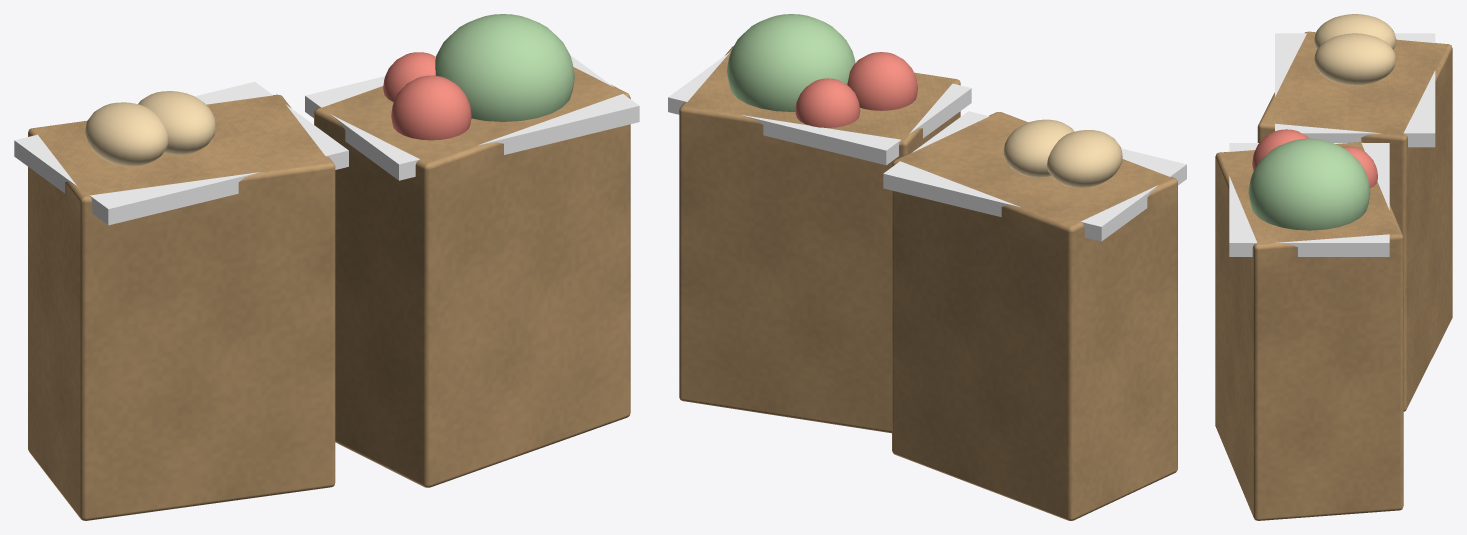
File: escena.casa.bolsas_super.fbx
The picture shows the model from 3 angles, left to right: view 1: azimuth 30°, elevation 25°; view 2: azimuth 150°, elevation 25°; view 3: azimuth 270°, elevation 25°; orthographic projection. The views are drawn at different scales.
Parts seen in each view (by area): view 1: Bolsa.001, Bolsa, Lechuga, Doblez.001, Doblez, Tomate, Marraqueta.001, Marraqueta, Tomate.001; view 2: Bolsa.001, Bolsa, Lechuga, Doblez.001, Doblez, Marraqueta.001, Tomate, Marraqueta, Tomate.001; view 3: Bolsa, Bolsa.001, Lechuga, Doblez, Doblez.001, Marraqueta, Marraqueta.001, Tomate, Tomate.001.
Part boxes in pixels (bbox=[...]): Bolsa.001: bbox=[28, 94, 335, 520]; Bolsa: bbox=[314, 67, 630, 487]; Lechuga: bbox=[435, 14, 574, 121]; Doblez.001: bbox=[14, 81, 348, 225]; Doblez: bbox=[305, 55, 639, 180]; Tomate: bbox=[391, 75, 471, 140]; Marraqueta.001: bbox=[85, 102, 168, 166]; Marraqueta: bbox=[138, 91, 216, 154]; Tomate.001: bbox=[383, 52, 435, 101]; Bolsa.001: bbox=[892, 112, 1177, 520]; Bolsa: bbox=[679, 46, 960, 433]; Lechuga: bbox=[726, 14, 855, 111]; Doblez.001: bbox=[883, 111, 1186, 241]; Doblez: bbox=[668, 51, 971, 165]; Marraqueta.001: bbox=[1047, 130, 1122, 187]; Tomate: bbox=[847, 52, 917, 110]; Marraqueta: bbox=[1003, 119, 1074, 177]; Tomate.001: bbox=[795, 78, 860, 127]; Bolsa: bbox=[1215, 142, 1403, 520]; Bolsa.001: bbox=[1257, 31, 1452, 411]; Lechuga: bbox=[1248, 138, 1370, 230]; Doblez: bbox=[1229, 143, 1389, 256]; Doblez.001: bbox=[1275, 33, 1435, 147]; Marraqueta: bbox=[1314, 33, 1396, 85]; Marraqueta.001: bbox=[1314, 14, 1396, 49]; Tomate: bbox=[1252, 129, 1309, 170]; Tomate.001: bbox=[1342, 146, 1377, 188].
Size of the model in its own units: 0.6703 by 0.488 by 0.3112.
Materials: 5 (1 with a texture image).
